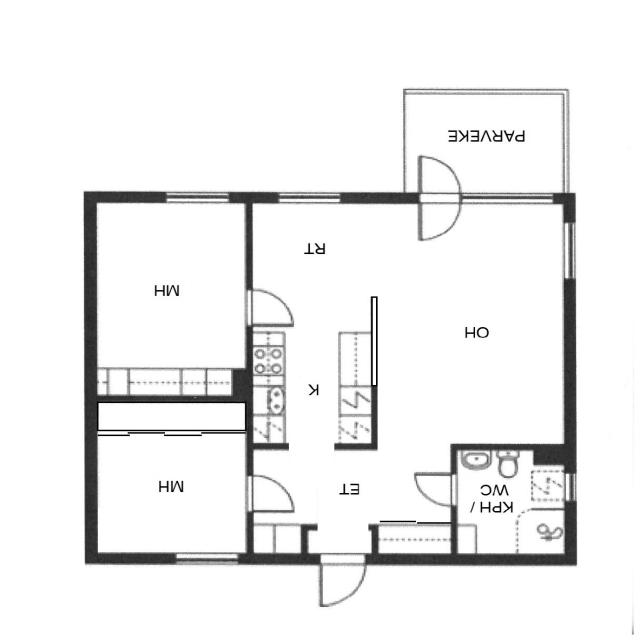door: (412, 153, 464, 246), (314, 551, 370, 612), (238, 282, 300, 329), (241, 470, 300, 519), (408, 466, 467, 512)
window: (460, 187, 559, 211), (167, 546, 245, 573), (271, 185, 350, 210), (156, 187, 238, 211), (557, 217, 583, 285), (558, 467, 582, 508)
zone: (379, 200, 572, 450), (250, 196, 377, 452), (91, 196, 250, 395), (93, 396, 253, 558), (453, 444, 569, 562), (250, 451, 372, 559)
